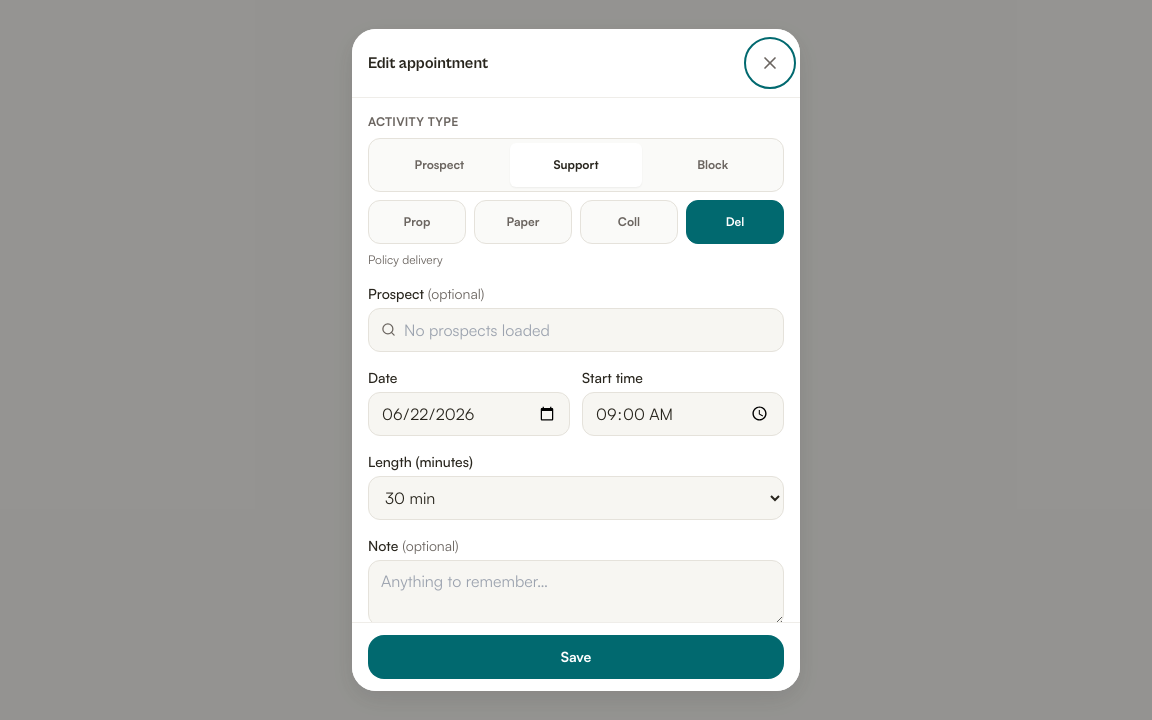
AppointmentSheet grouped type picker › offers prospect attach for Support types but not for Block types
Expected: the field labelled "Prospect (optional)" is shown, [404,318,771,342]
Note: Block: no prospect attach, and no free-block select unless the type is FREE.
Click the button with test id "appt-type-group-block".
click(713, 165)  # box [646,143,779,187]
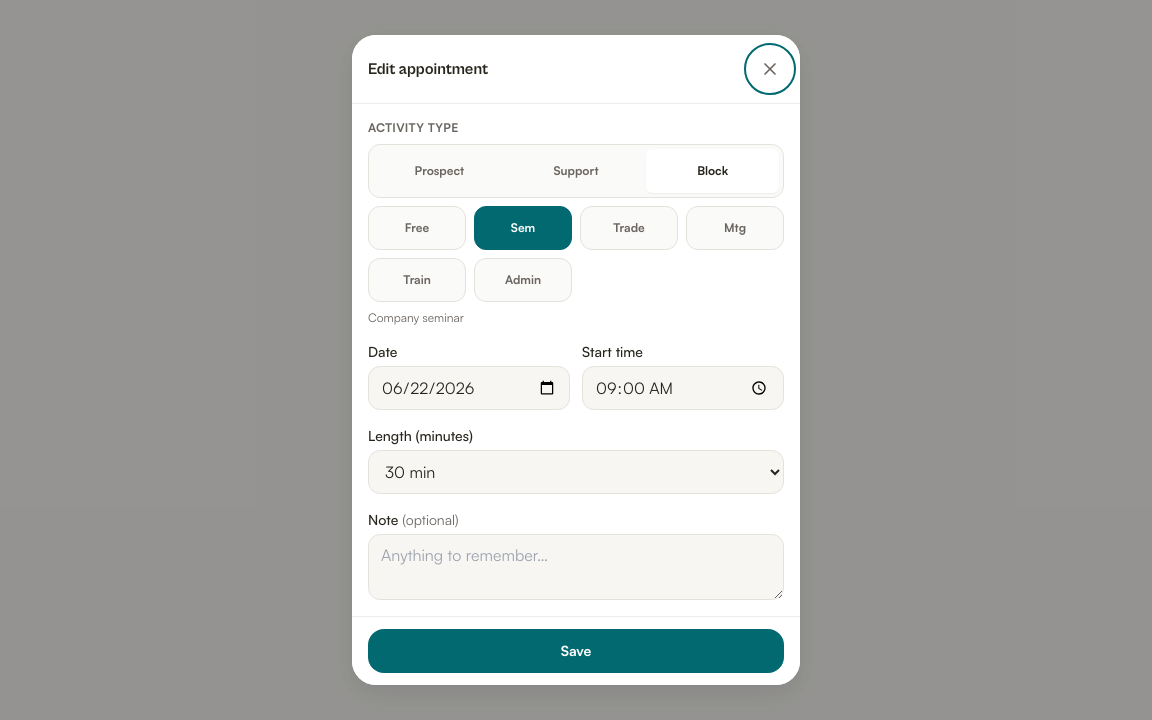
Expected: the field labelled "Free block" is not shown
Note: FREE keeps its legacy label chip row.
Click the button with test id "appt-type-FREE".
click(417, 228)  # box [368,206,466,250]
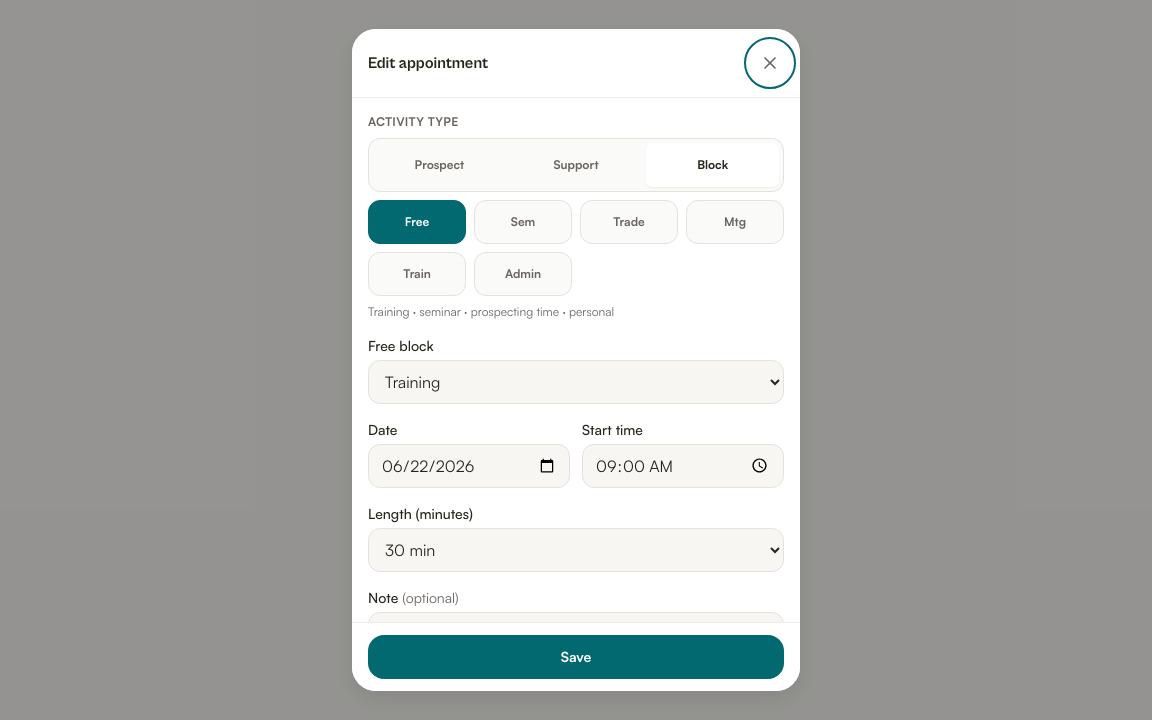
Expected: the dropdown labelled "Free block" is shown, [368,360,784,404]
